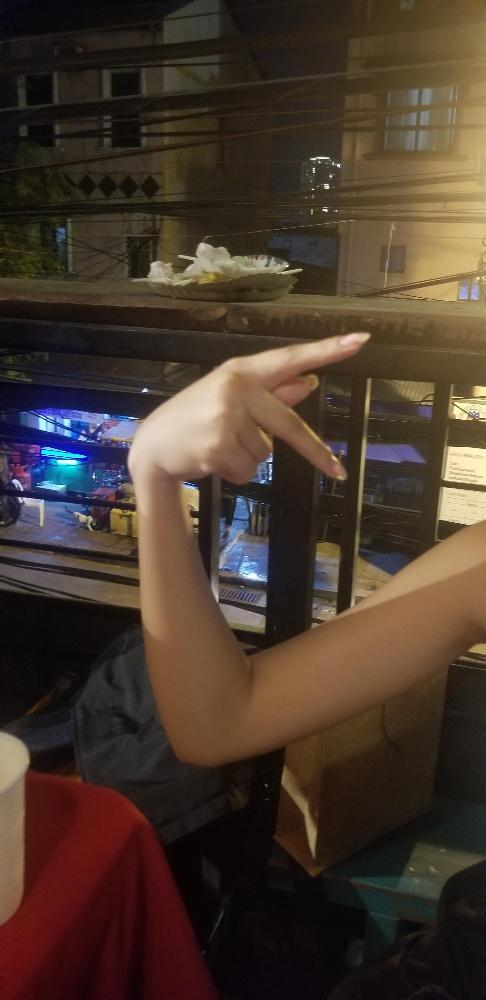k: (126, 327, 373, 491)
